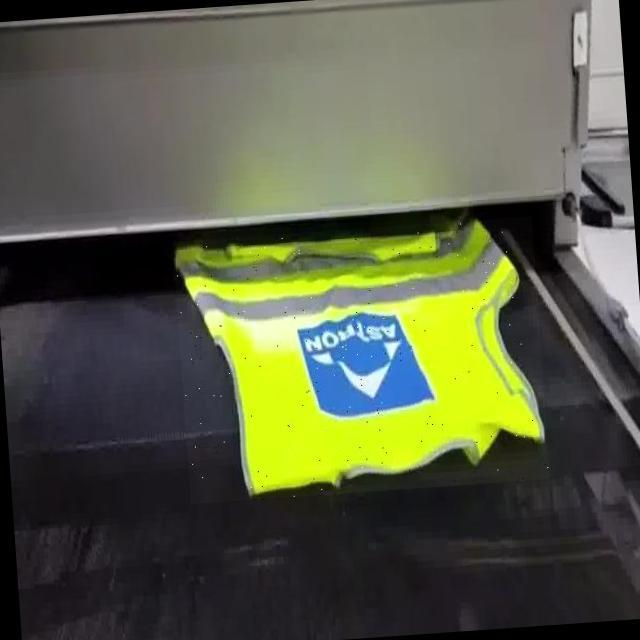Safety Vest: (172, 216, 550, 503)
